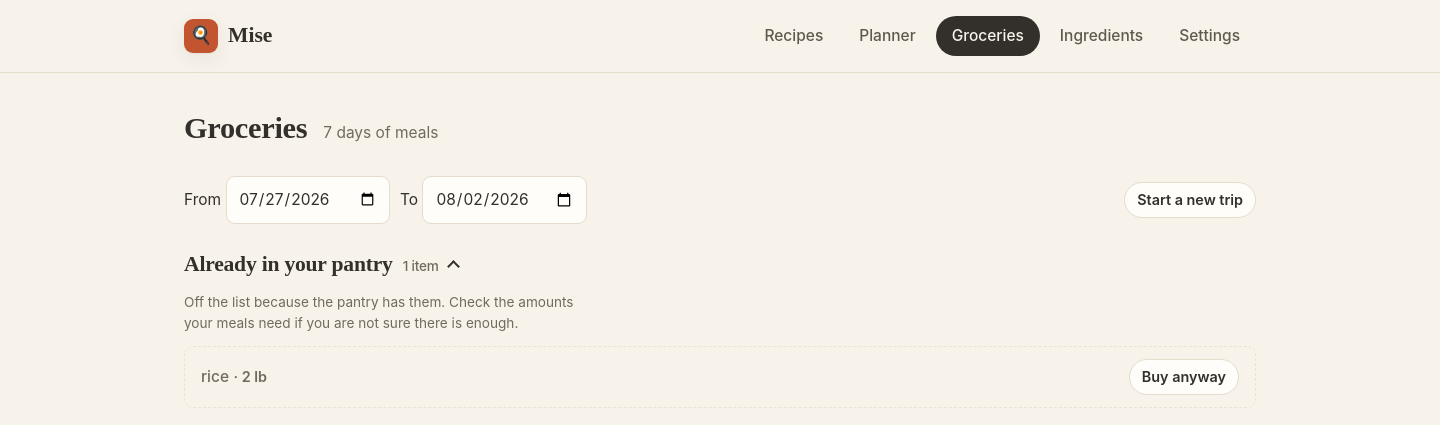
Test case: GroceryPage › moves a stocked item onto the list when asked to buy it anyway
The width and height of the screenshot is (1440, 425).
Expected: the text "rice" is shown, [201, 367, 229, 386]
Click the button "Buy anyway".
click(1184, 377)  # box [1129, 359, 1239, 395]
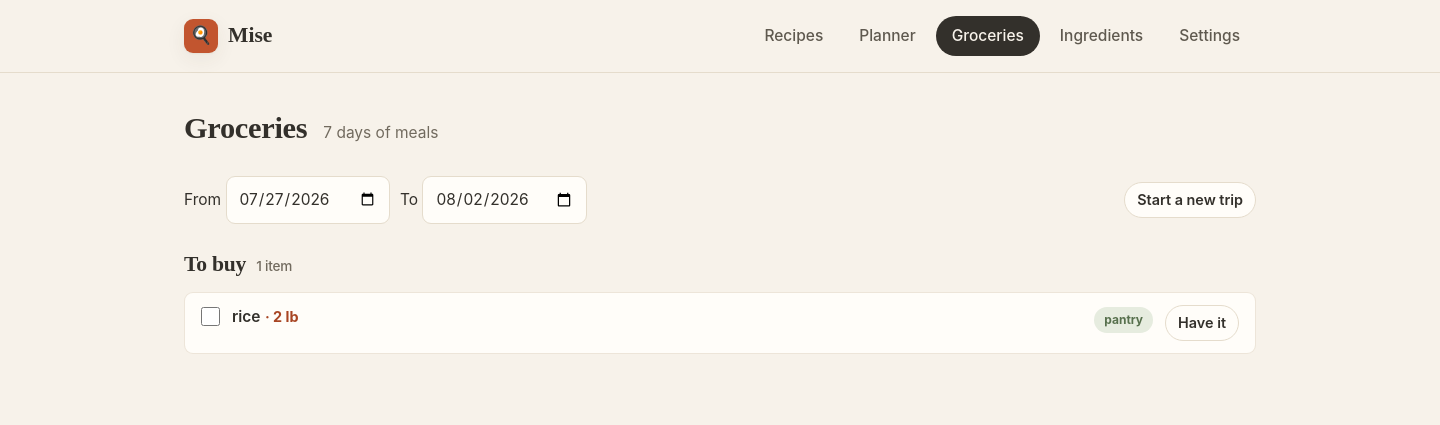
Expected: the checkbox is shown, [201, 307, 220, 326]
Expected: the button "Buy anyway" is gone
